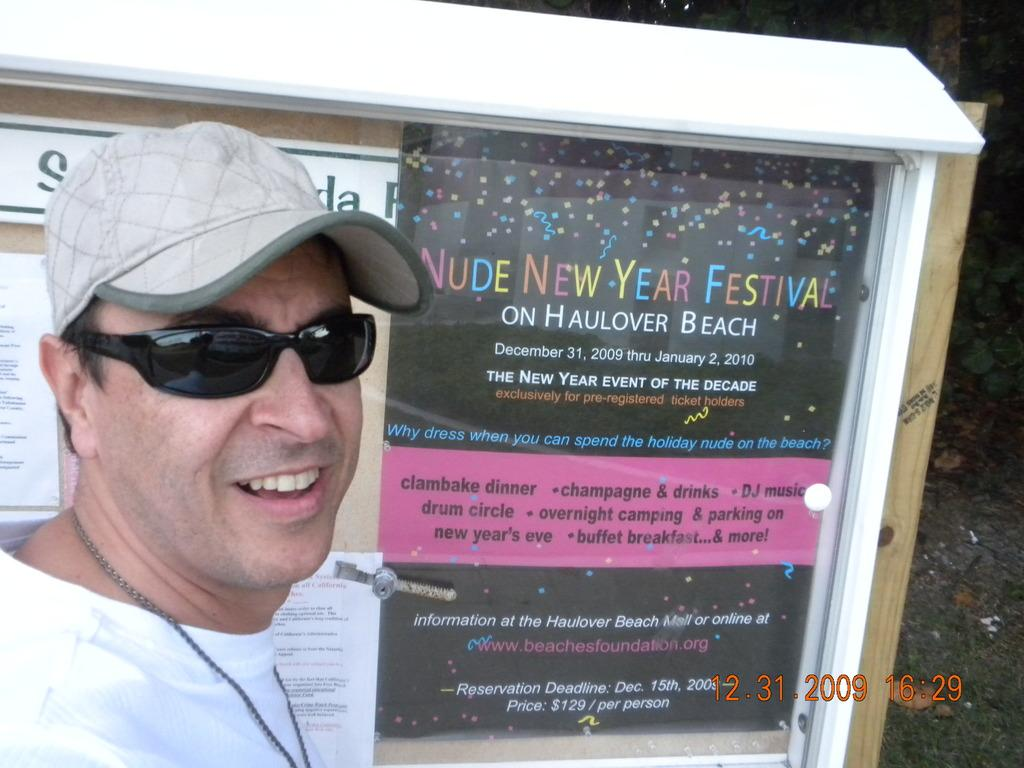Hat: (43, 119, 434, 341)
